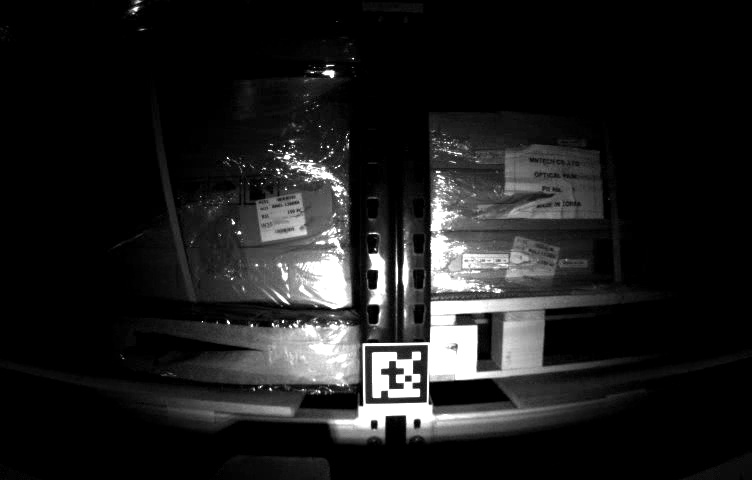True Barcode: (507, 233, 555, 295), (254, 194, 309, 239)
